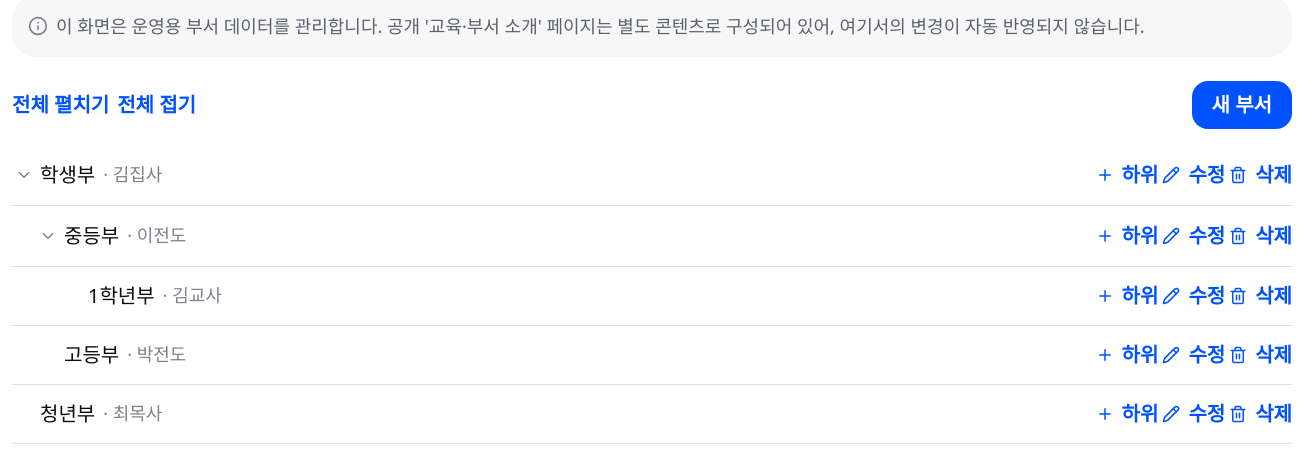
DepartmentManager (접이식 트리) › 전체 접기 → 루트만, 전체 펼치기 → 복귀
Expected: the text "1학년부" is shown, left=88, top=279, right=155, bottom=313
Click the button "전체 접기": x=157, y=105 left=117, top=93, right=196, bottom=116
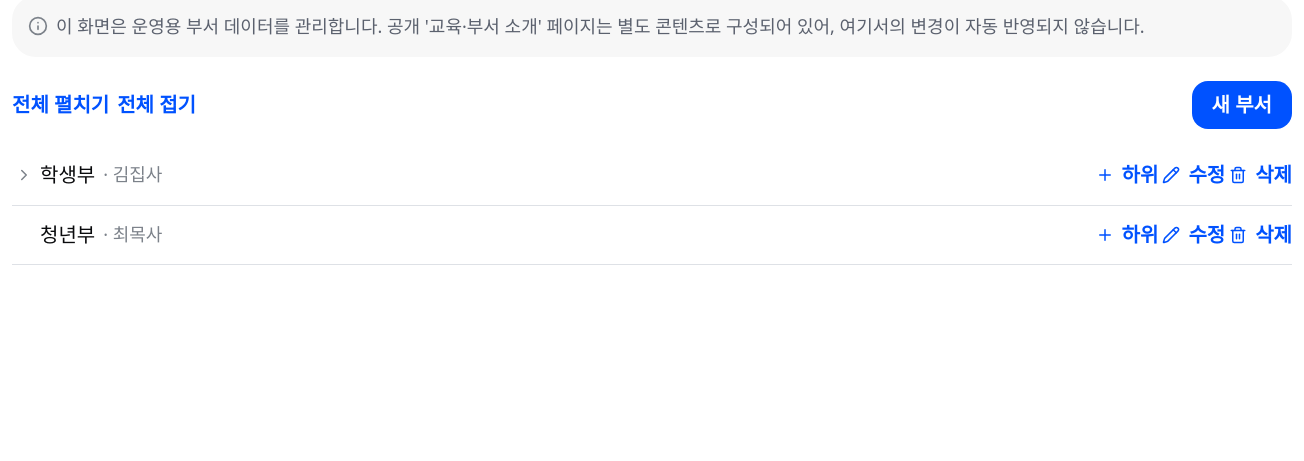
Expected: the text "학생부" is shown, left=40, top=158, right=95, bottom=192
Expected: the text "1학년부" is gone
Expected: the text "중등부" is gone
Click the button "전체 펼치기": x=61, y=105 left=12, top=93, right=109, bottom=116
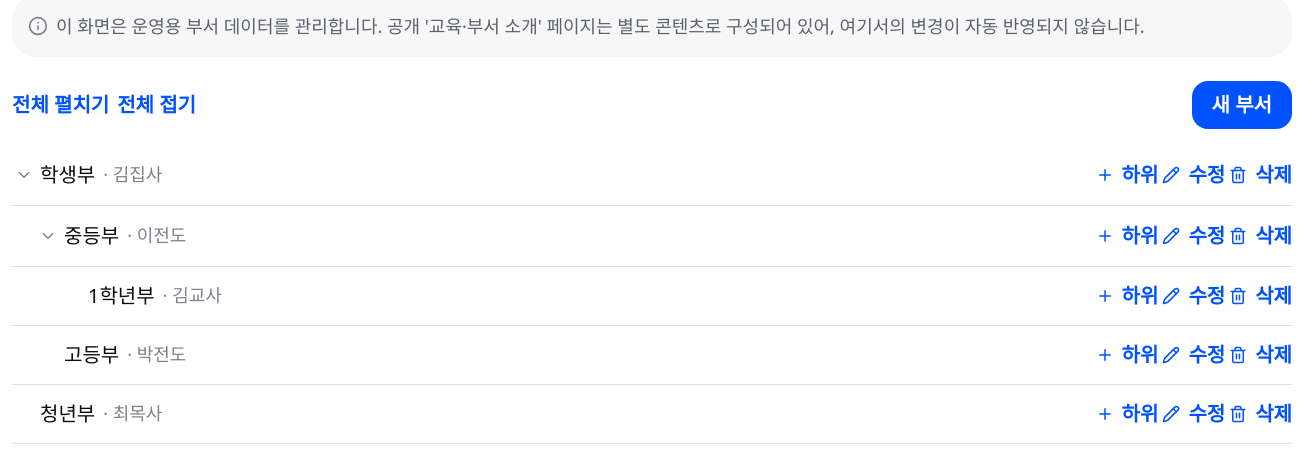
Expected: the text "1학년부" is shown, left=88, top=279, right=155, bottom=313
